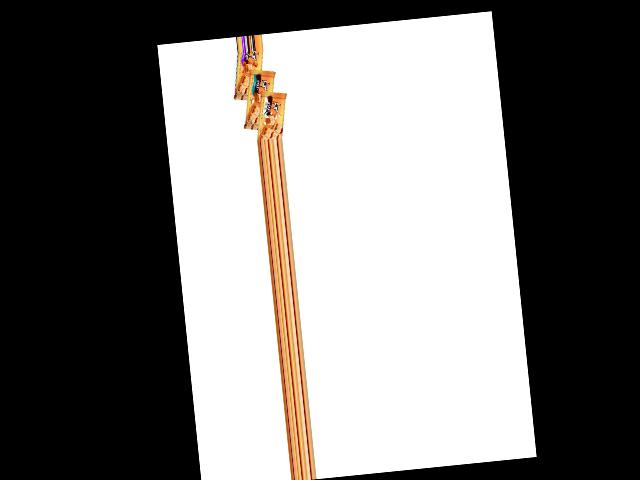chocolate: (232, 49, 269, 105)
